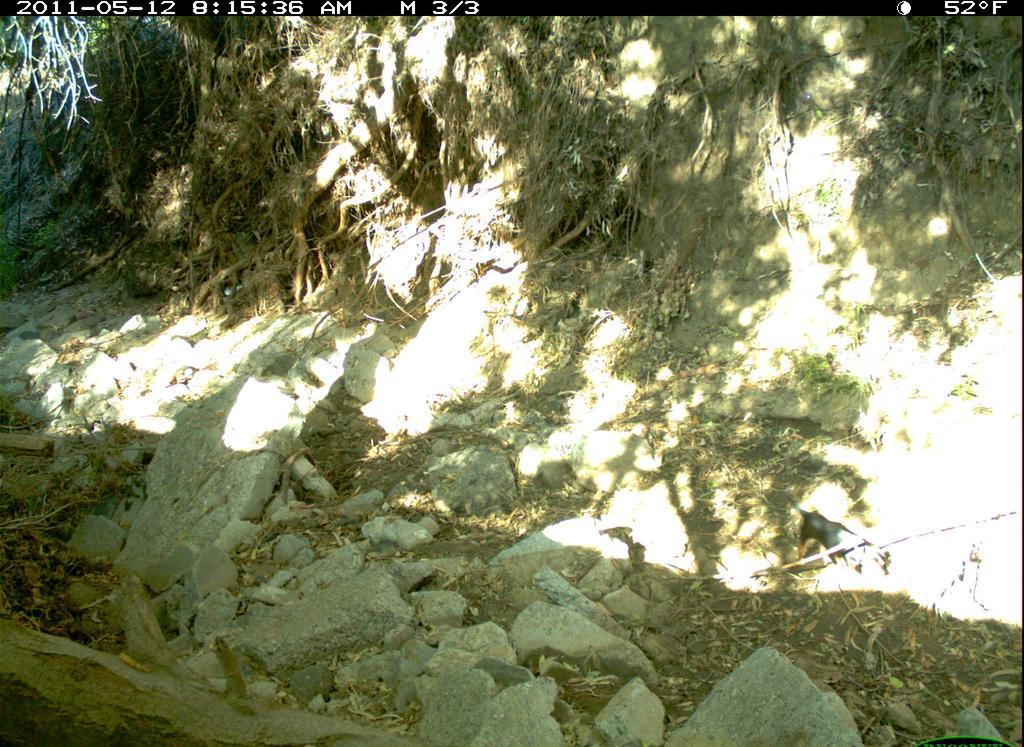dog: (773, 469, 901, 631)
